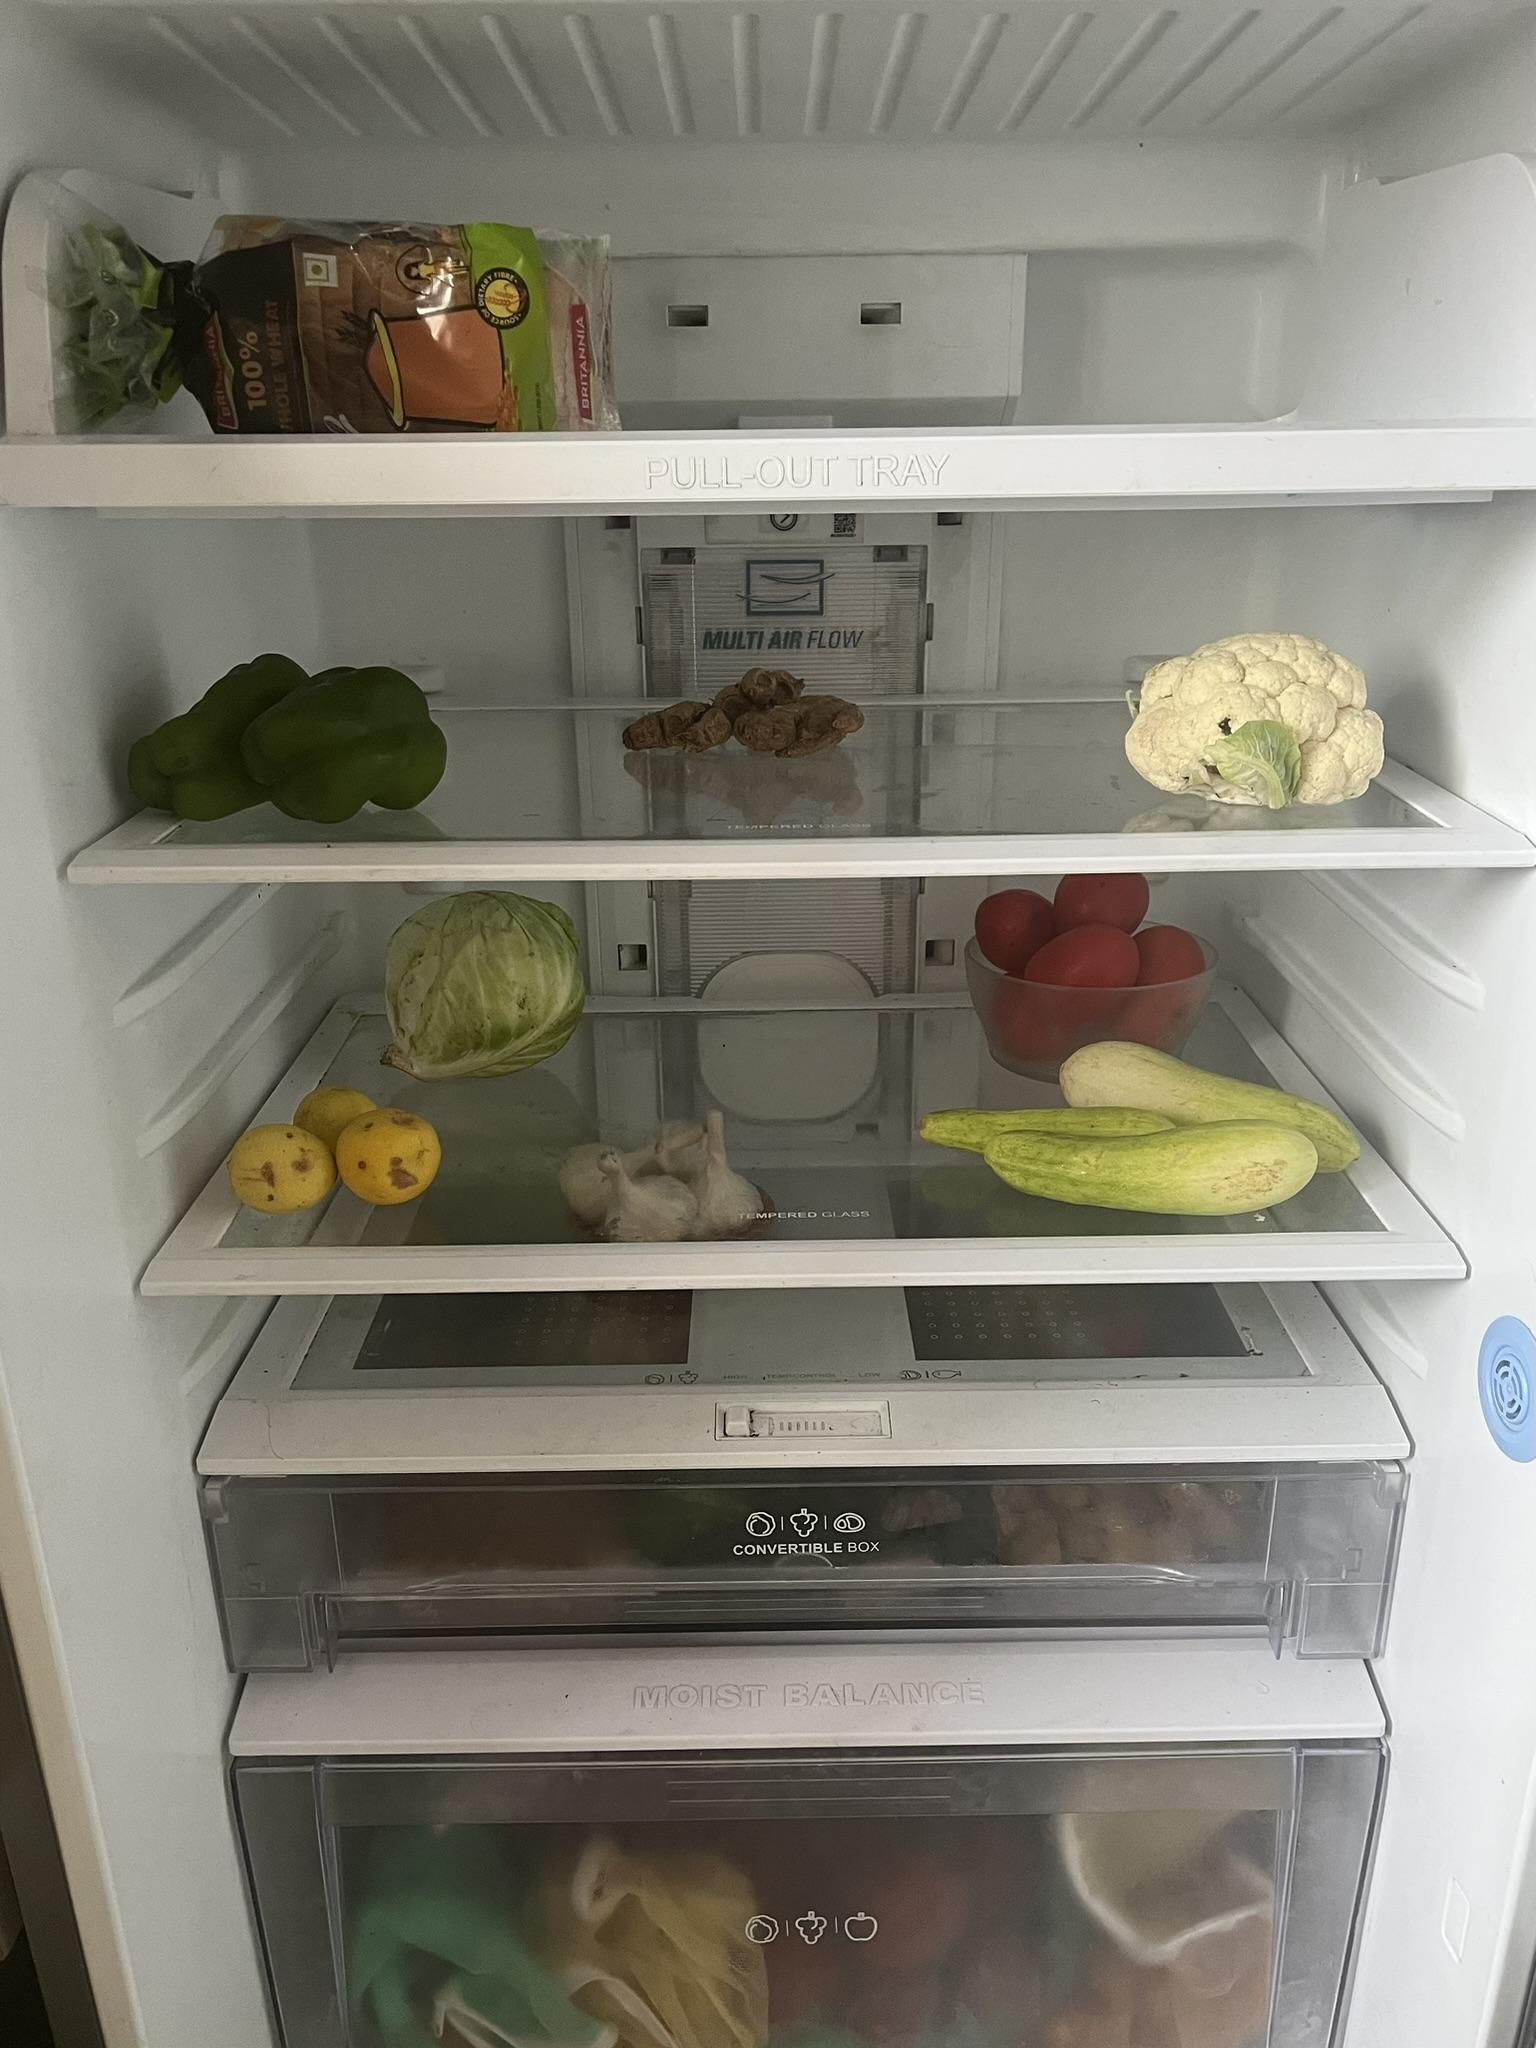bread: (50, 210, 626, 469)
cabbage: (369, 887, 613, 1084)
capsicum: (113, 643, 463, 843)
cauliflower: (1126, 616, 1394, 810)
cucumber: (913, 1024, 1386, 1221)
garlic: (557, 1106, 779, 1243)
ginger: (620, 650, 876, 777)
lemon: (231, 1074, 453, 1224)
tomato: (957, 874, 1223, 1050)
